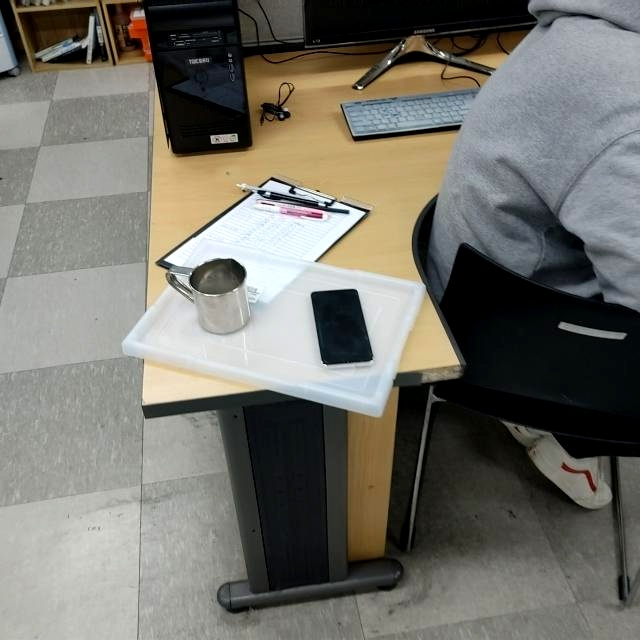cup: (166, 257, 253, 335)
phone: (309, 286, 375, 372)
